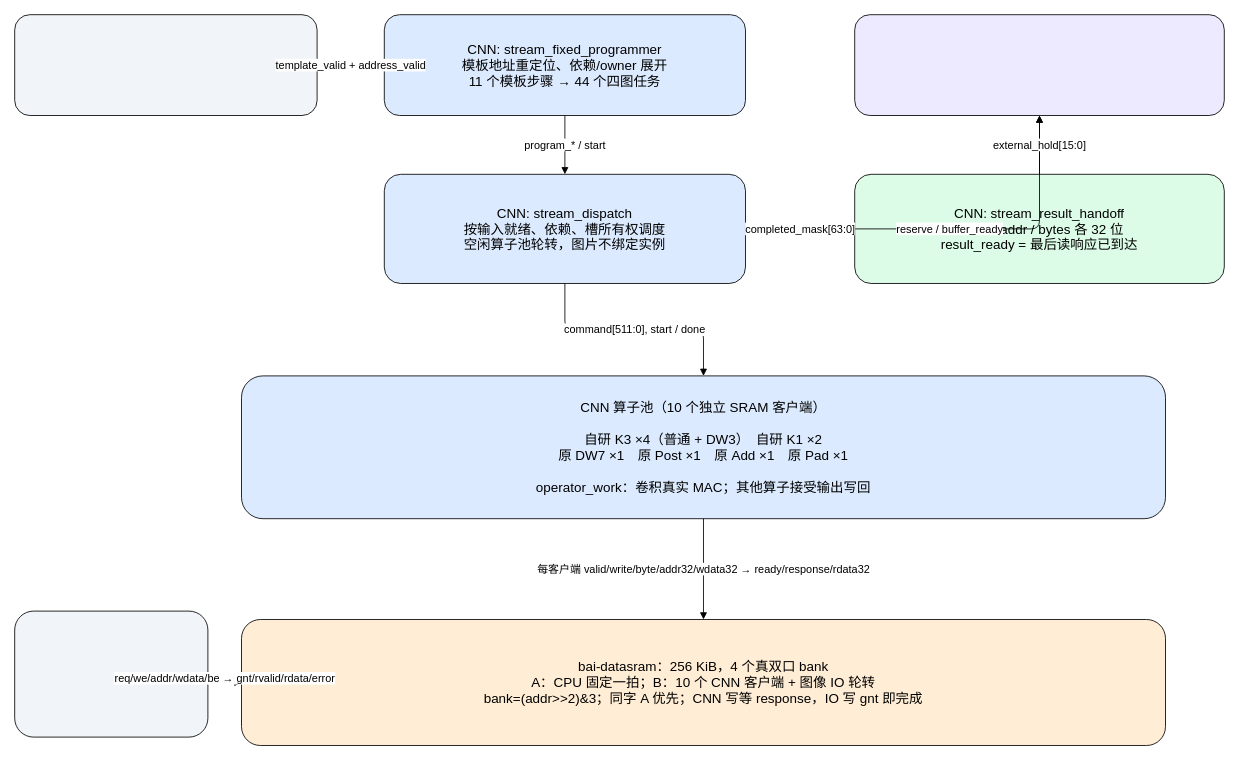
Image size: 1239x760. Some labels were removed from this diagram. The shapes that lost their labels are listed below. From the top down, each one's box as (x1, y1, x2, y2) in pixels, then its label:
(14, 14, 317, 116): 外部配置端 一份固定流程 + 1~4 张图片地址 图片写完后提交 frame_valid
(854, 14, 1224, 116): CNN: stream_buffer_leases 16 个物理工作槽 所有消费者完成 + 外部取走后释放
(14, 610, 208, 737): 外部图像 IO 逐张写入 / 结果读出 本测试为请求驱动器
